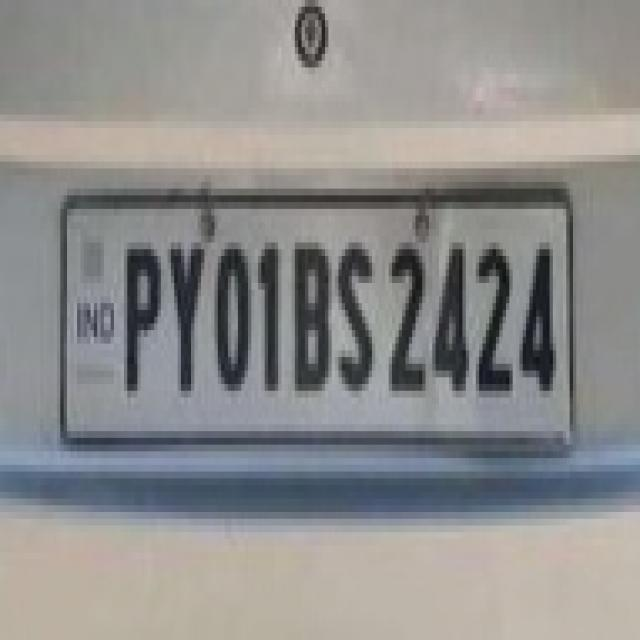0: (212, 230, 255, 414)
1: (256, 234, 282, 396)
4: (516, 235, 564, 409), (432, 229, 473, 406)
B: (291, 233, 332, 400)
P: (121, 229, 163, 402)
S: (336, 233, 374, 401)
Y: (162, 235, 210, 409)
